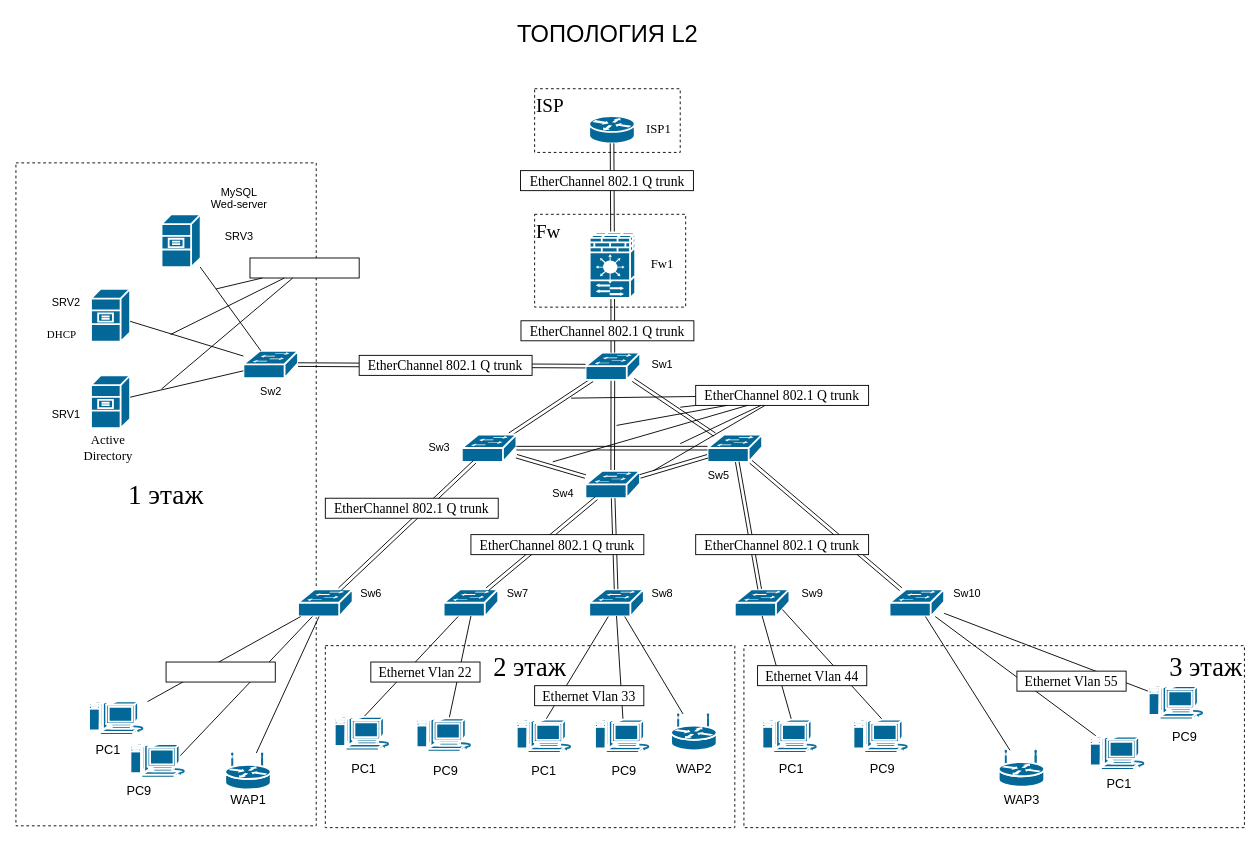
Image size: 1260x844. Some labels were removed from this diagram. Each missing label, with the centre of its shape:
Ethernet Vlan 11: (x=220, y=671)
Ethernet Vlan 111: (x=304, y=267)
